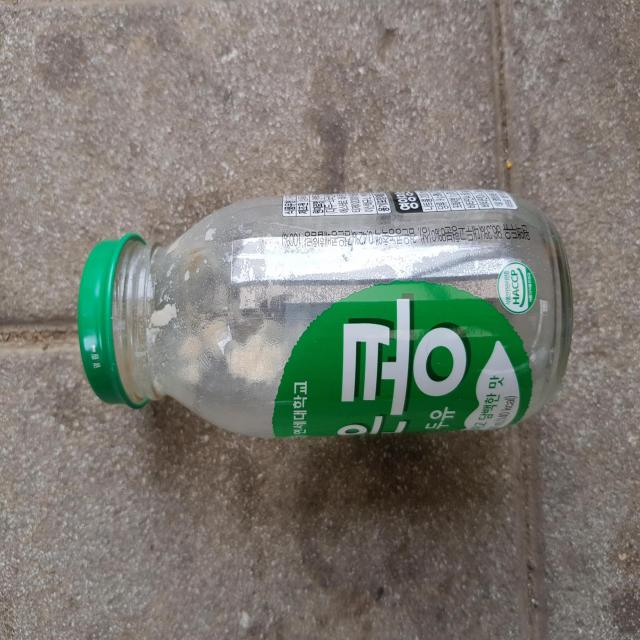glass: (77, 188, 573, 438)
